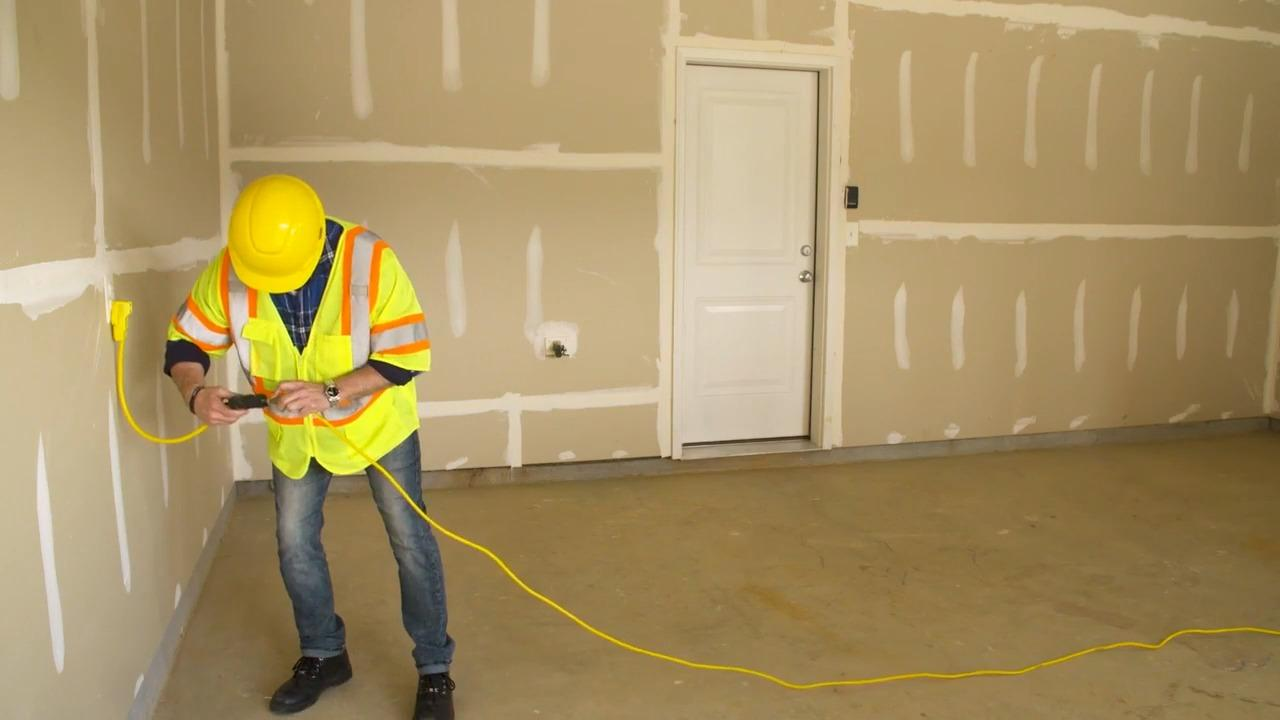Helmet: (225, 172, 327, 294)
Person: (197, 161, 458, 720)
Safety Boot: (268, 646, 352, 714), (411, 671, 455, 719)
Safety Vest: (202, 256, 427, 480)
bare-arms: (187, 381, 250, 427), (270, 374, 329, 419)
